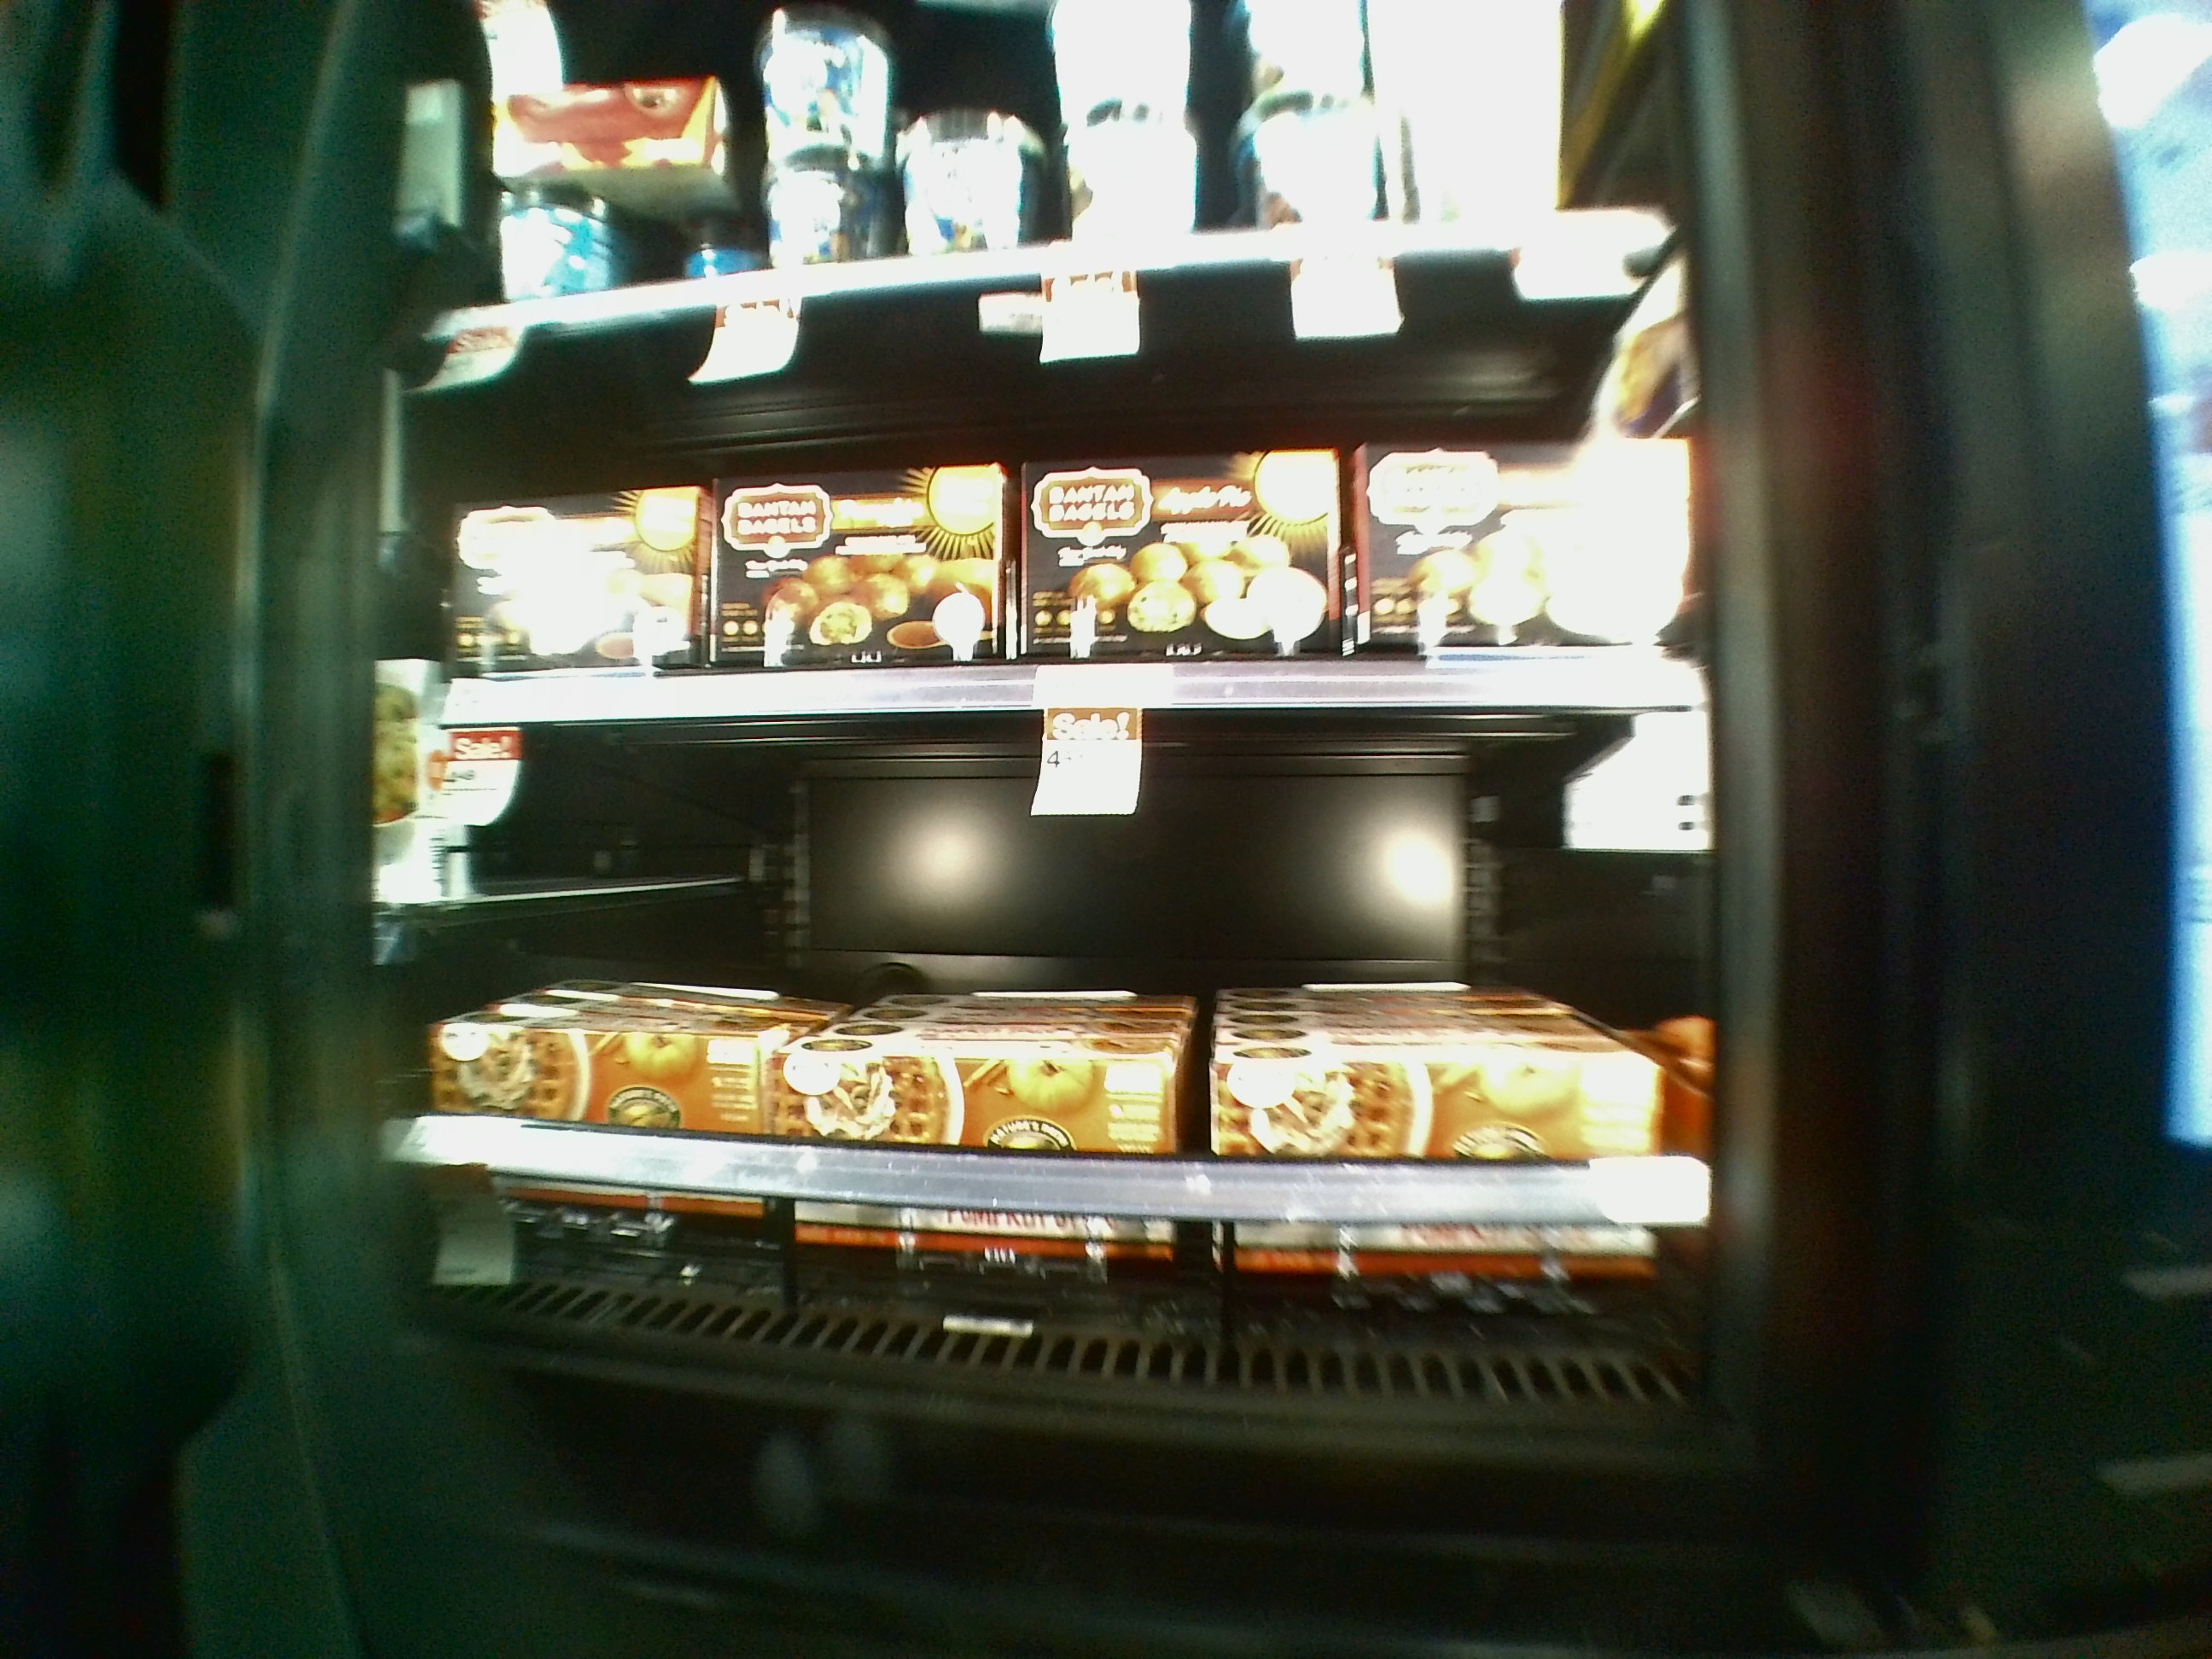shelf: (361, 690, 1719, 1453), (369, 295, 1742, 711)
